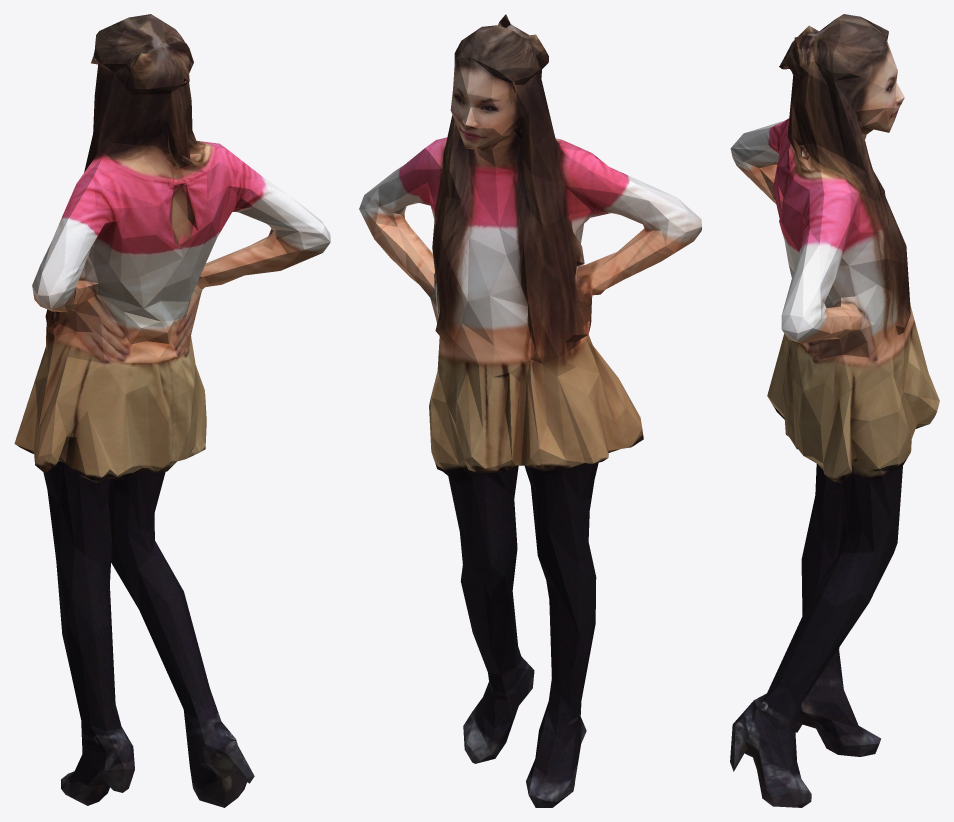
Rendered from NPC2.obj.
3 renders of one model, left to right at view 1: azimuth 30°, elevation 25°; view 2: azimuth 150°, elevation 25°; view 3: azimuth 270°, elevation 25°, orthographic.
Parts seen in each view (by area): view 1: NPC2_Material.004; view 2: NPC2_Material.004; view 3: NPC2_Material.004.
Boxes of the visible parts, left/top/right/bottom form: NPC2_Material.004: left=14, top=14, right=330, bottom=807; NPC2_Material.004: left=359, top=14, right=701, bottom=807; NPC2_Material.004: left=730, top=14, right=939, bottom=807.
Bounding box in the file's own units: 0.4312 × 0.9979 × 0.2478.
